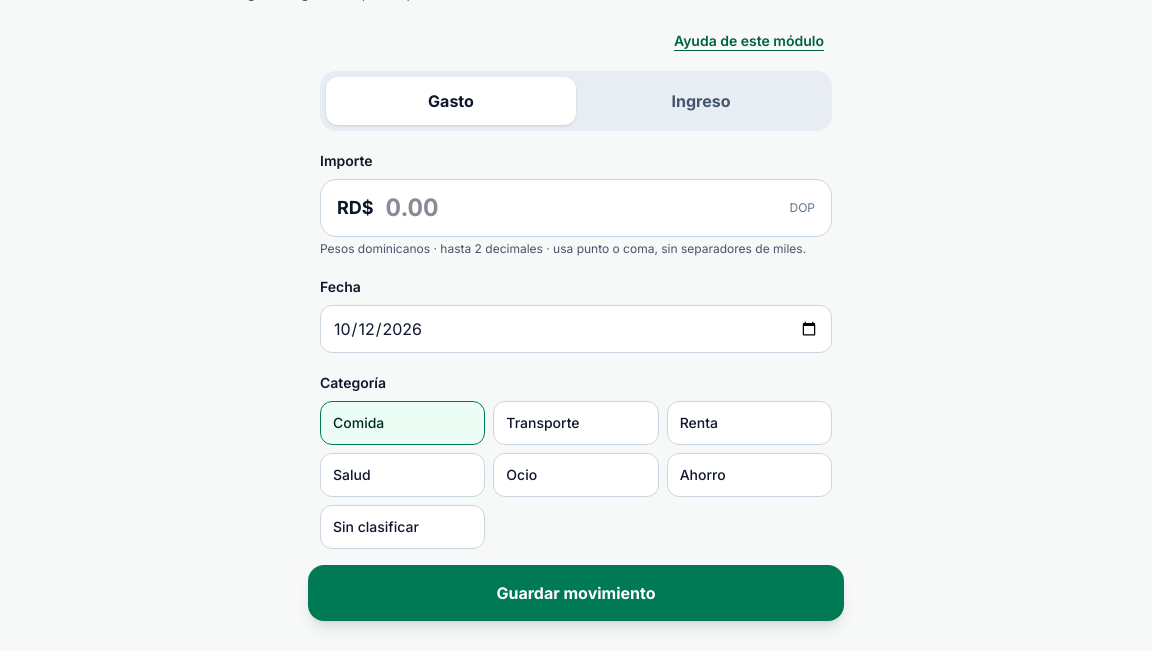
Test: QuickAddTransaction › allows an unclassified income and reuses the same idempotency key on an uncertain retry
Click the button "Ingreso": (701,101) [576,77,826,125]
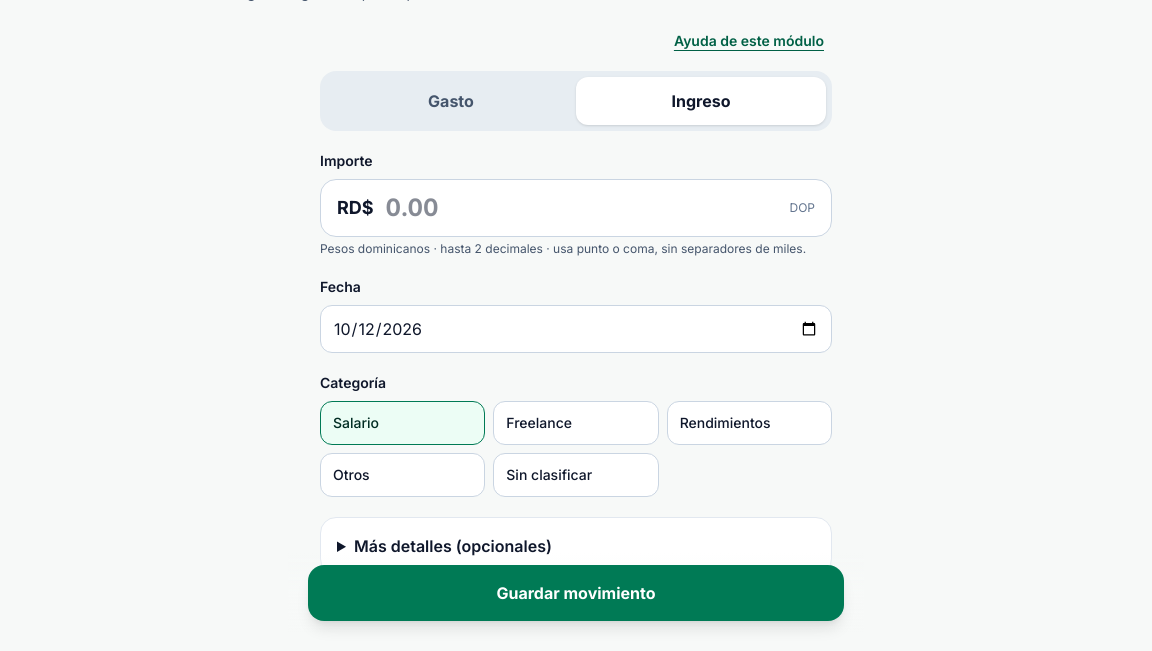
In the field labelled "Importe": (582,208) [386,192,778,224], type "50.00"
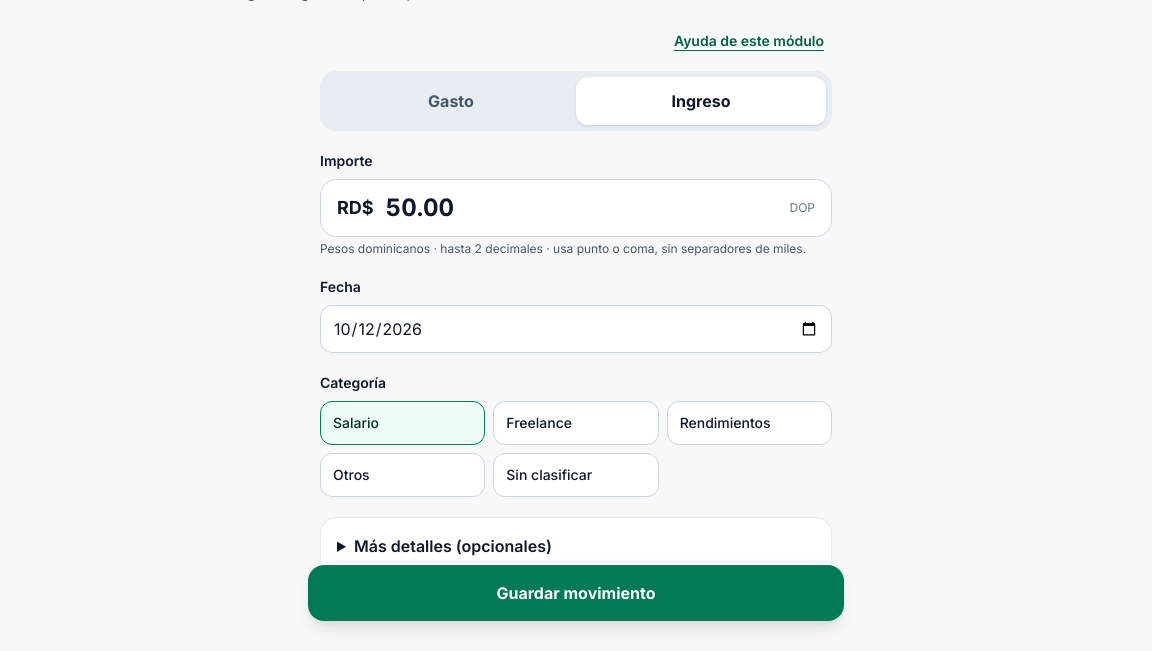
Click the button "Sin clasificar": (576,475) [493,453,659,497]
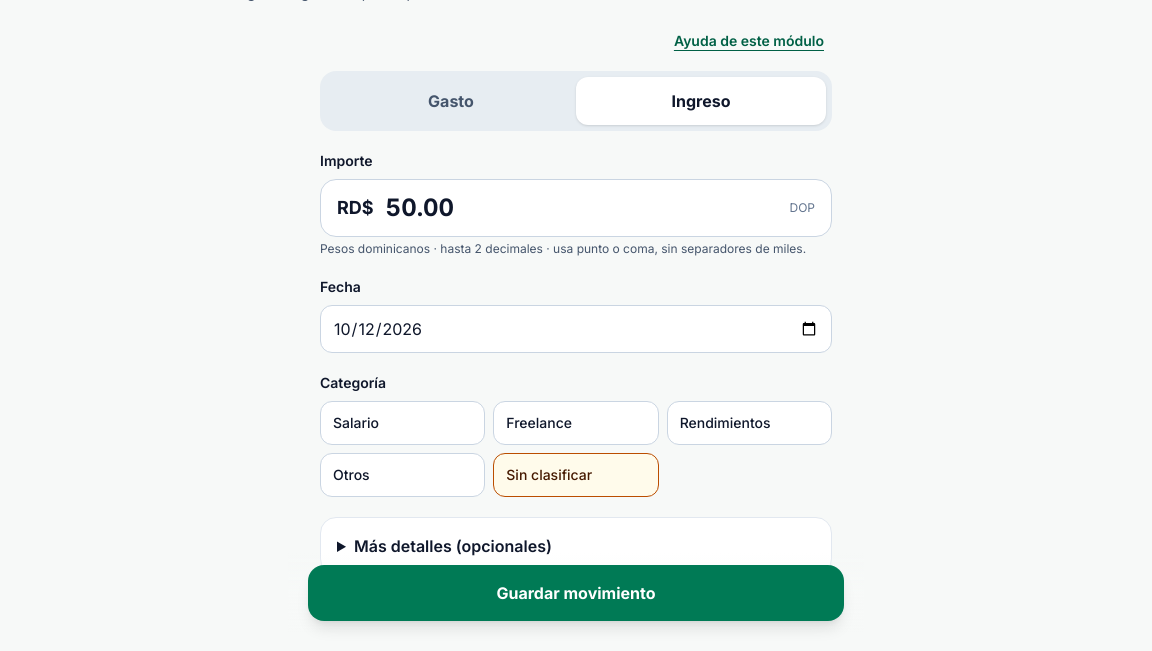
Click the button "Guardar movimiento": (576,593) [308,565,844,621]
(page scrolled)
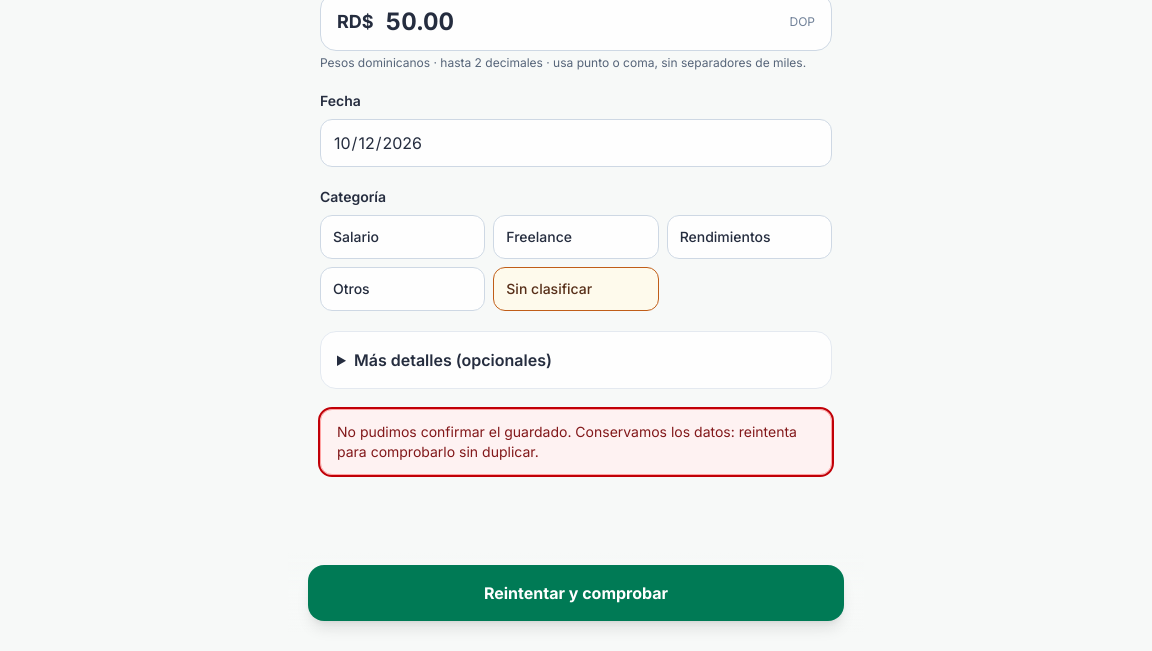
Check: the button "Reintentar y comprobar" is shown
Click the button "Reintentar y comprobar": (576,593) [308,565,844,621]
(page scrolled)
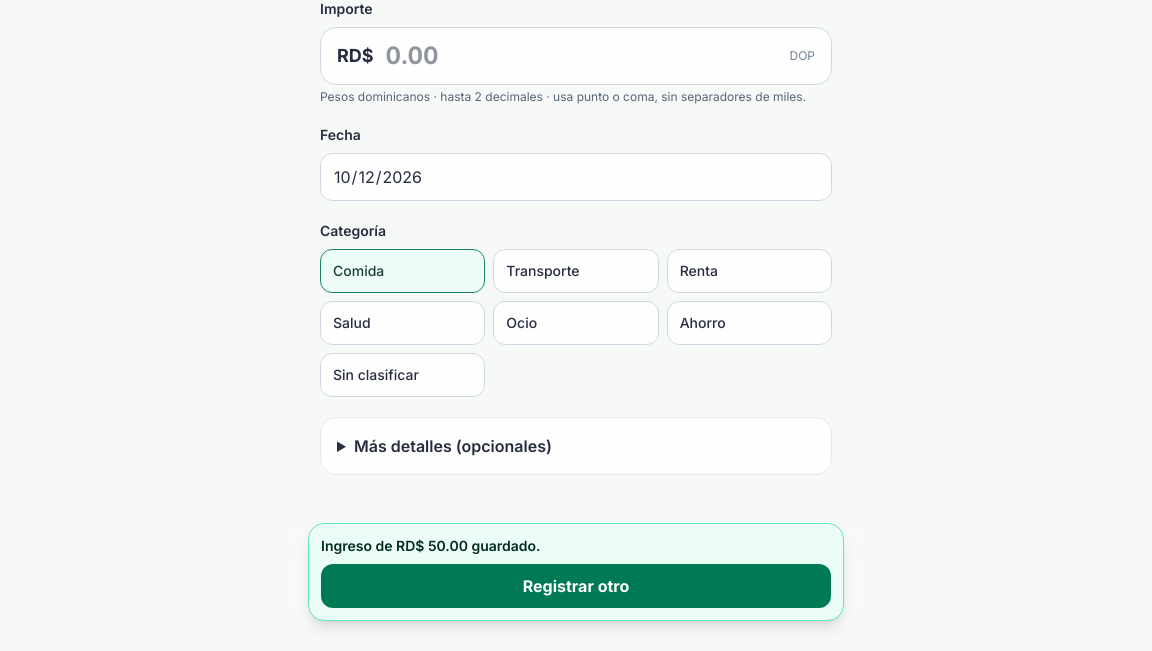
Check: the text "Ingreso de RD$ 50.00 guardado." is shown, box [321,537,540,554]
